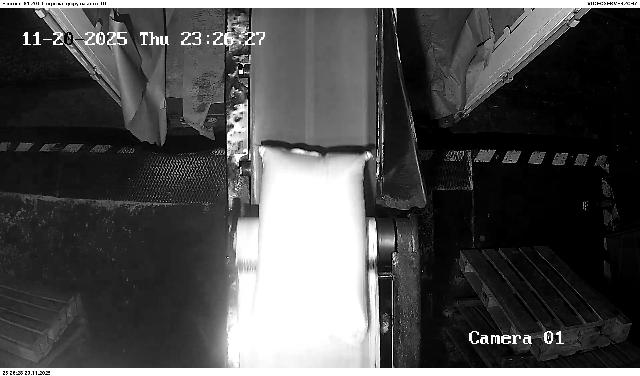bag: (252, 146, 373, 349)
